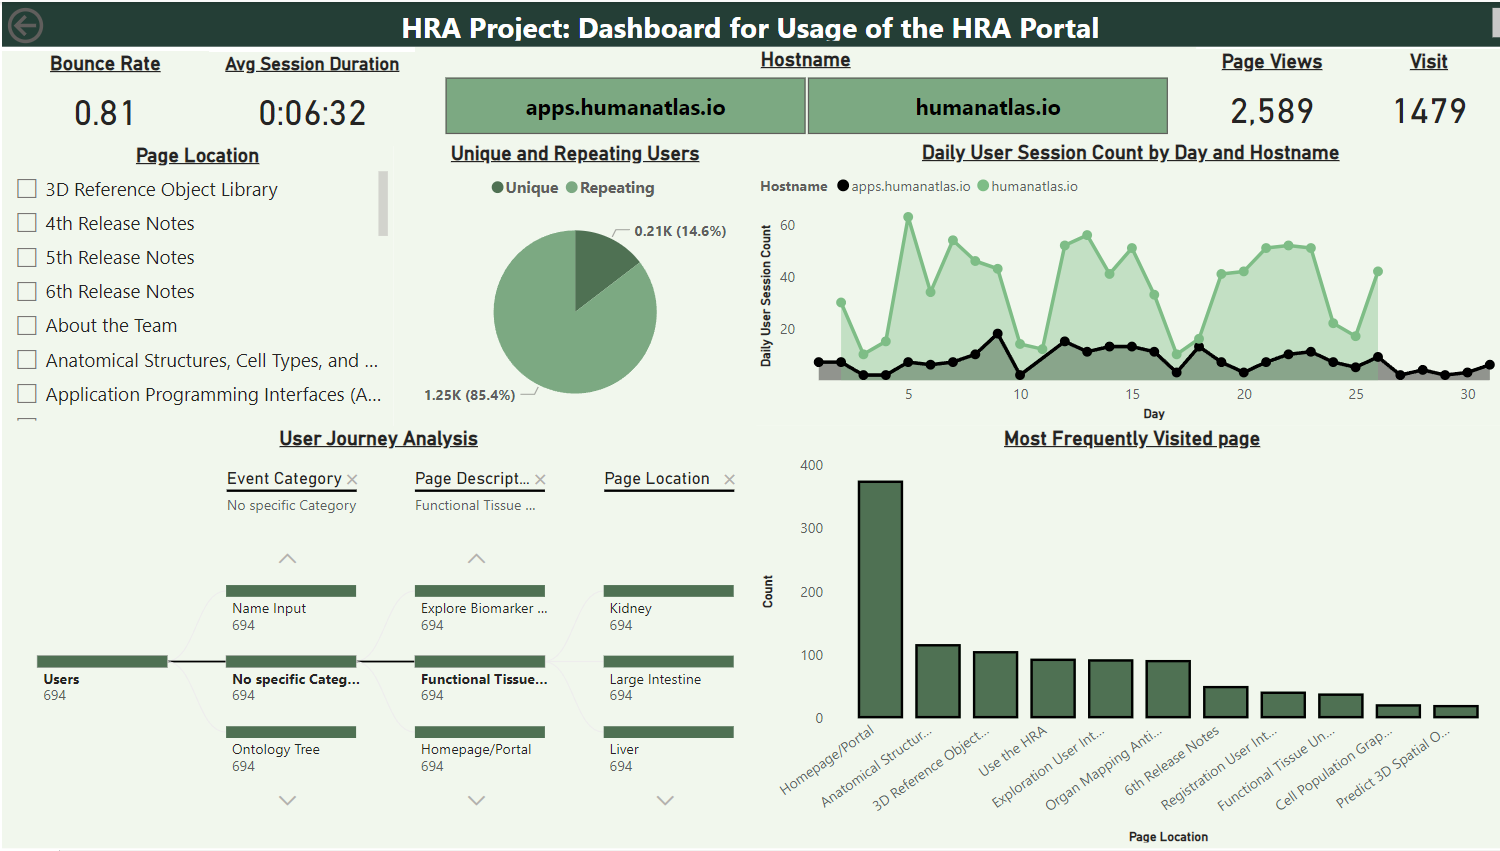

What the dashboard file says about the page in this screenshot:
{"tool":"powerbi","page":{"name":"Final Dashboard","canvas":[1280,720],"ordinal":1},"visuals":[{"type":"columnChart","title":"Most Frequently Visited page","fields":{"Category":["processed_HRA_data.page_location_description"],"Y":["Count(processed_HRA_data.user_pseudo_id)"]},"box":[640.5,360.5,639.5,359.4],"z":0},{"type":"areaChart","fields":{"Category":["processed_HRA_data.event_date.Variation.Date Hierarchy.Day"],"Y":["Count(processed_HRA_data.user_pseudo_id)"],"Series":["processed_HRA_data.hostname"]},"box":[639.5,117.7,640.5,243.1],"z":1000},{"type":"card","title":"Visit","fields":{"Values":["CountNonNull(processed_HRA_data.event_name)"]},"box":[1145.7,40,134.3,81.4],"z":2000},{"type":"card","title":"Page Views","fields":{"Values":["CountNonNull(processed_HRA_data.event_name)"]},"box":[1012.9,40,132.9,81.4],"z":3000},{"type":"slicer","title":"Page Location ","fields":{"Values":["processed_HRA_data.page_location_description"]},"box":[0,119.8,332.6,240.9],"z":4000},{"type":"decompositionTreeVisual","title":"User Journey Analysis","fields":{"Analyze":["Count(processed_HRA_data.user_pseudo_id)"],"ExplainBy":["Cleaned_Data.Converted_event_category","Cleaned_Data.page_location_description","Cleaned_Data.page_location_detail"]},"box":[0,360.5,640.5,359.4],"z":5000},{"type":"textbox","box":[0,0,1280,37.6],"z":6000},{"type":"pieChart","title":"Unique and Repeating Users","fields":{"Y":["Count(processed_HRA_data.user_pseudo_id)","CountNonNull(processed_HRA_data.user_pseudo_id)1"]},"box":[333,118,308,243],"z":7000},{"type":"slicer","title":"Hostname","fields":{"Values":["Average Session Durations.hostname"]},"box":[351.4,38.6,664.3,81.4],"z":8000},{"type":"card","title":"Bounce Rate","fields":{"Values":["Avg(Bounce Rate.bounce_rate)"]},"box":[0,41.4,175.7,81.4],"z":9000},{"type":"card","title":"Avg Session Duration","fields":{"Values":["Min(Average Session Durations.average_duration_hms)"]},"box":[175.7,42.9,175.7,80],"z":10000},{"type":"actionButton","box":[0,0,100,40],"z":11000}]}

Visuals, with their boxes in screenshot pixels (x1, y1, x2, y2), scaled from the page's 1280x720 canvas onto the 1500x851 screenshot:
"Most Frequently Visited page" columnChart: (751,426,1499,850)
areaChart - processed_HRA_data.event_date.Variation.Date Hierarchy.Day x Count(processed_HRA_data.user_pseudo_id): (749,139,1499,426)
"Visit" card: (1343,47,1499,143)
"Page Views" card: (1187,47,1343,143)
"Page Location " slicer: (0,142,390,426)
"User Journey Analysis" decompositionTreeVisual: (0,426,751,850)
textbox: (0,0,1499,44)
"Unique and Repeating Users" pieChart: (390,139,751,427)
"Hostname" slicer: (412,46,1190,142)
"Bounce Rate" card: (0,49,206,145)
"Avg Session Duration" card: (206,51,412,145)
actionButton: (0,0,117,47)
